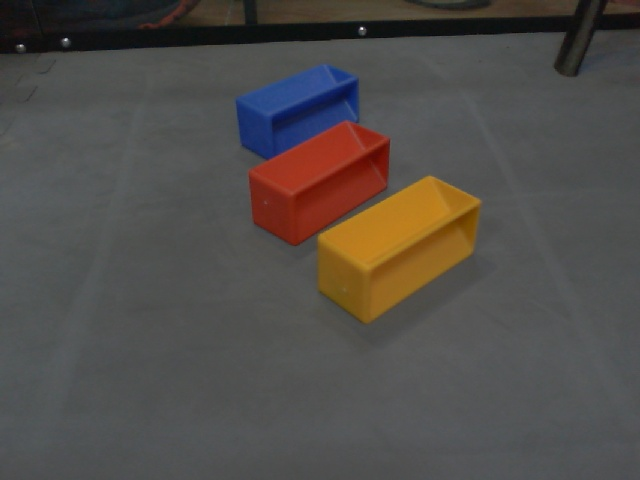BlueSample: (234, 62, 361, 163)
RedSample: (246, 119, 392, 248)
YellowSample: (315, 173, 484, 327)
